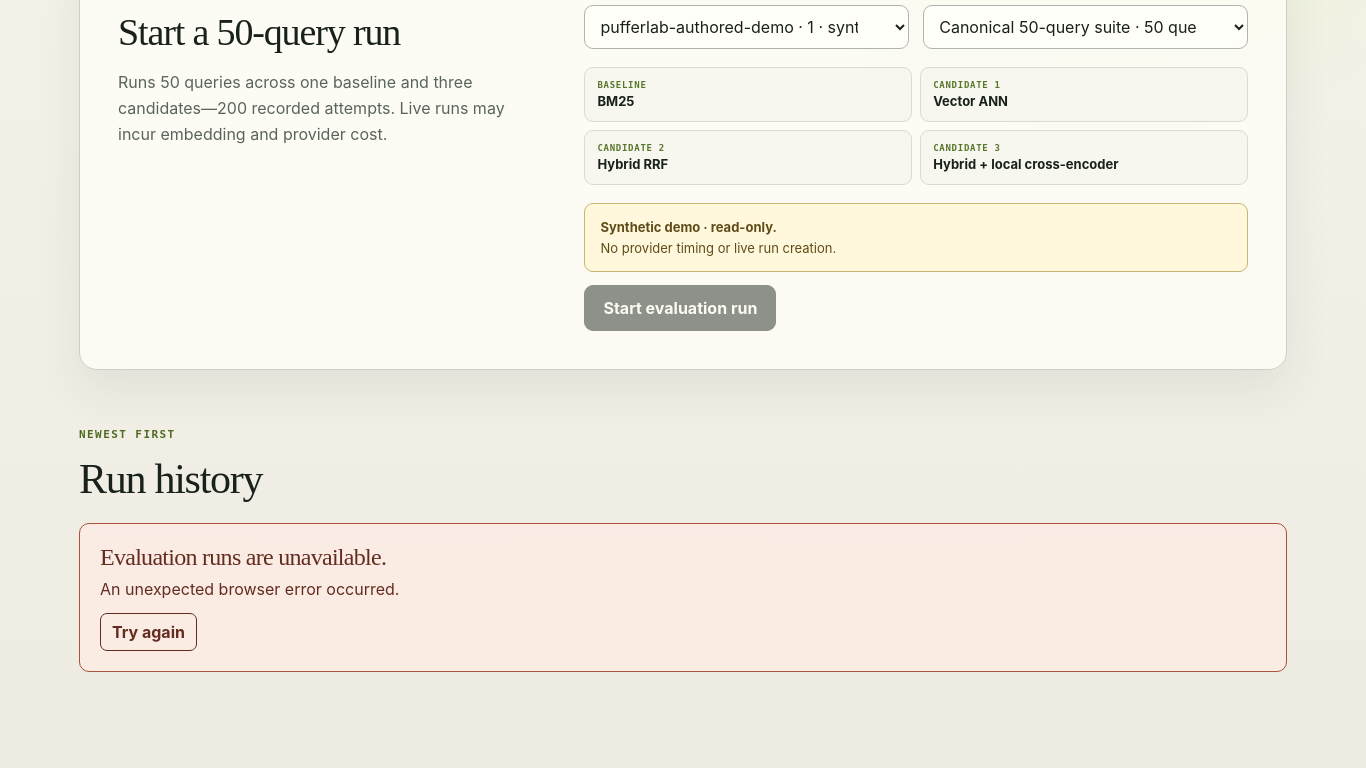
Test: RunListPage › shows a direct error and retries the run list
(page scrolled)
Expected: the heading "Evaluation runs are unavailable." is shown, [100,544,386,570]
Click the button "Try again": (148, 632) [100,613,197,651]
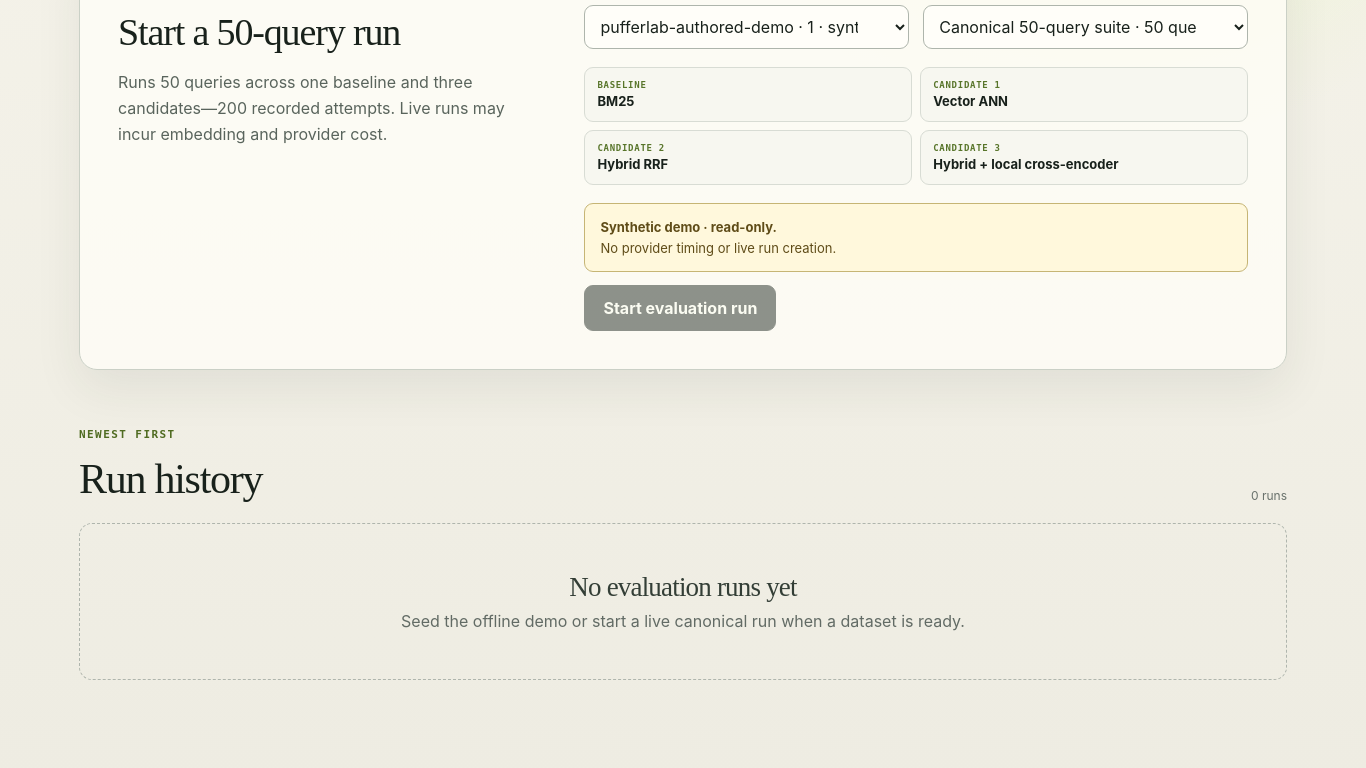
Result: the heading "No evaluation runs yet" is shown at [569,572,797,602]
